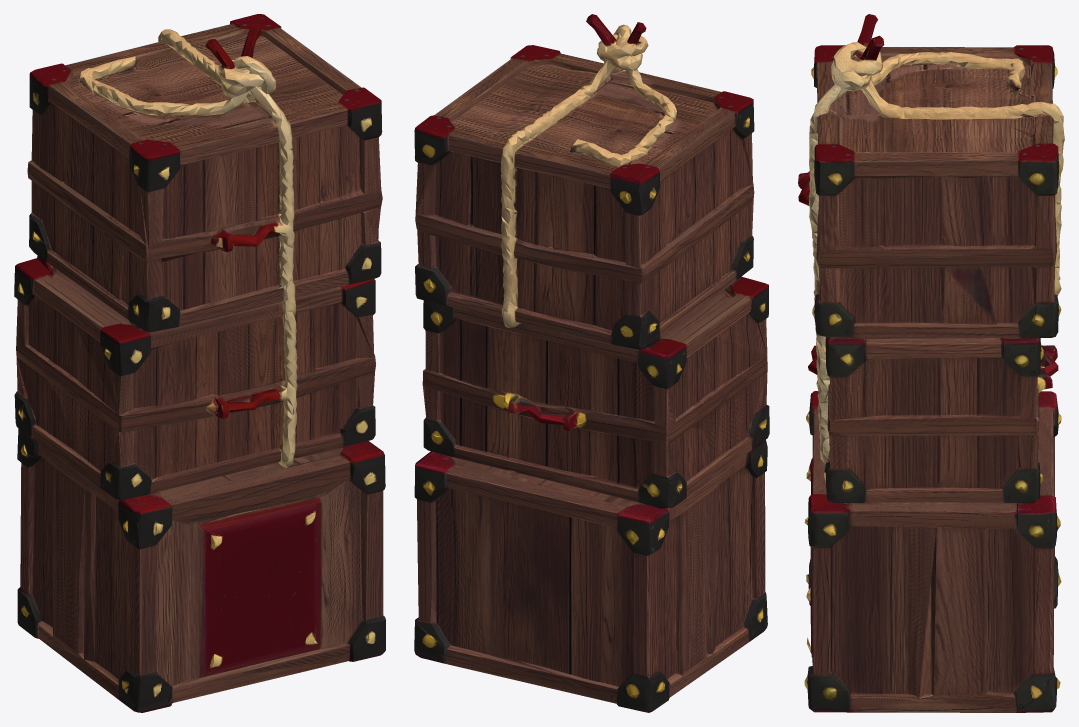
Rendered from crate_stack.glb.
3 views of the same model, side by side, from view 1: azimuth 30°, elevation 25°; view 2: azimuth 150°, elevation 25°; view 3: azimuth 270°, elevation 25° (orthographic). The views are drawn at different scales.
Bounding box in the file's own units: 0.8406 × 1.9 × 0.7288.
1 material, 1 textured.
